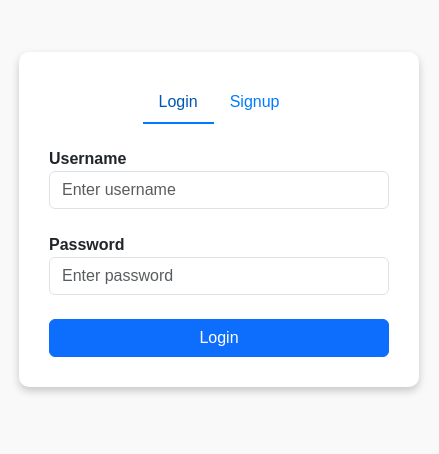
Scenario: LoginPage Component › switches to signup tab when clicked
The image size is (439, 454).
What coordinates should you click on to do the following:
click the tab "Signup"
I would click on:
 (255, 102)
Its box is [214,82,296,122].
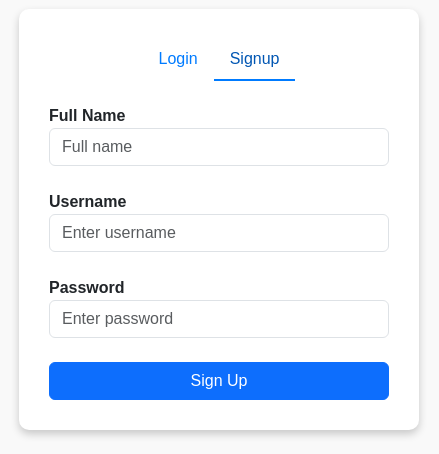
Check: the field with placeholder "Full name" is shown, box [49,128,389,166]
Check: the field with placeholder "Enter username" is shown, box [49,214,389,252]
Check: the password field with placeholder "Enter password" is shown, box [49,300,389,338]
